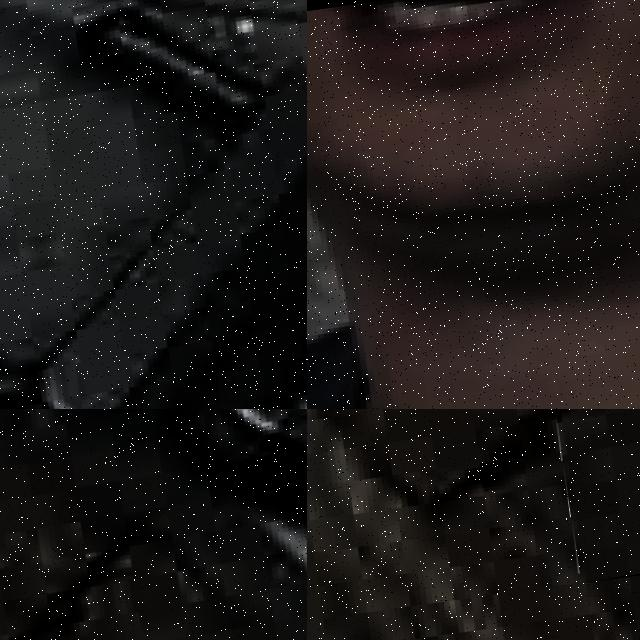drone: (0, 0, 307, 409), (0, 409, 307, 640), (512, 409, 640, 583)
